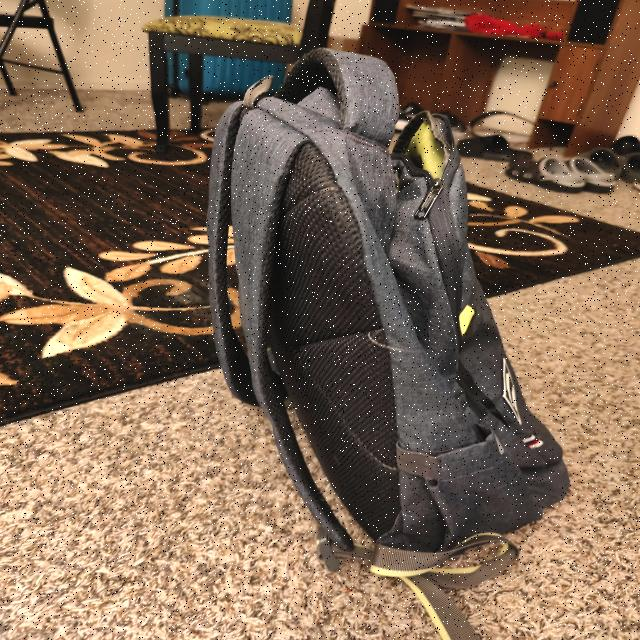bag: (286, 117, 492, 493)
